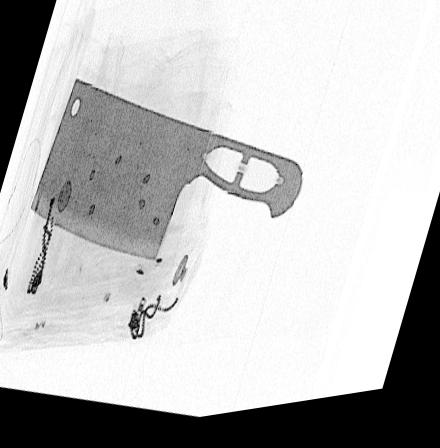Knife: (26, 78, 305, 268)
